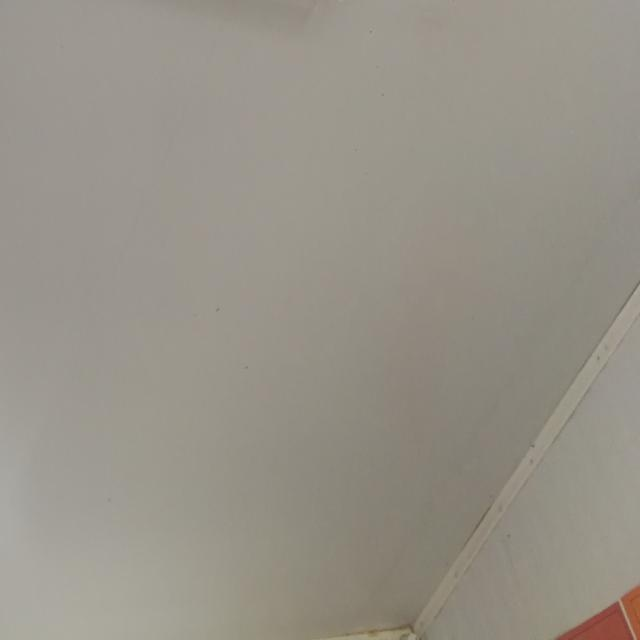fluorescent tube: (0, 0, 383, 27)
